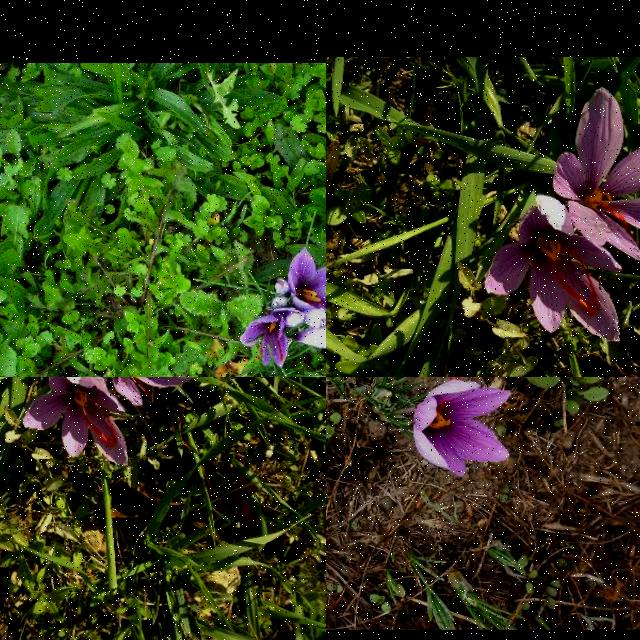flower: (486, 205, 622, 342), (551, 88, 640, 261), (412, 377, 513, 477), (24, 377, 128, 467), (72, 377, 195, 406)
overlap: (240, 246, 326, 367)
